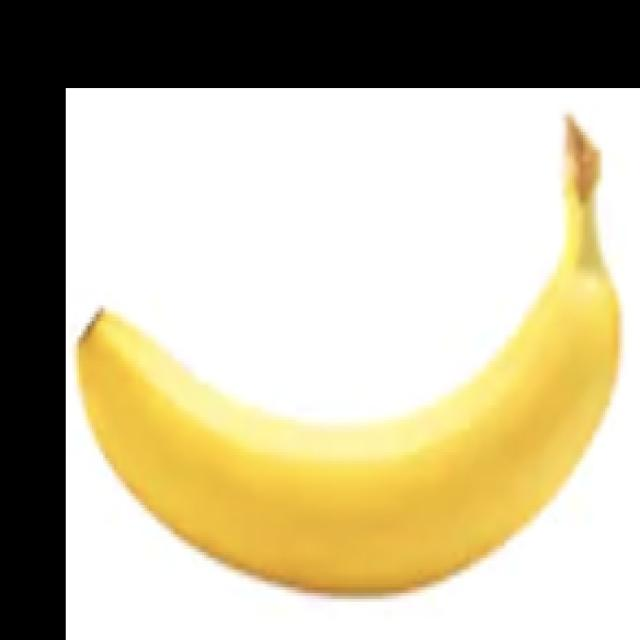Ripe: (71, 110, 629, 613)
